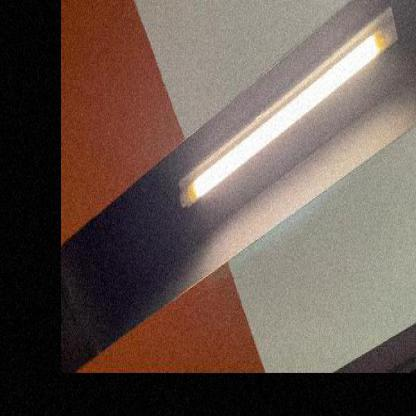light_on: (163, 0, 407, 229)
